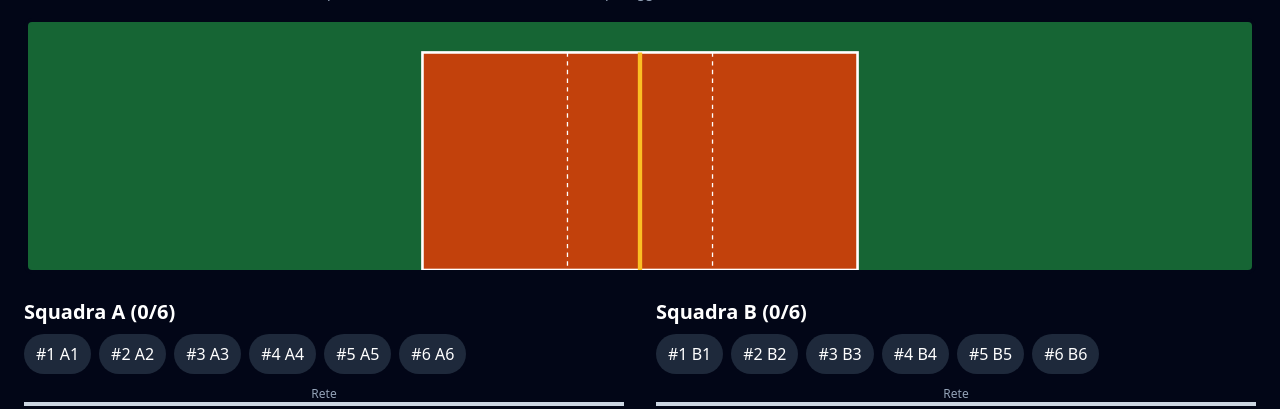
LineupPicker › la griglia riempie le zone 1..6 nellordine di tocco e toglie i giocatori dalla rosa
Click the button "#3 A3": point(208, 354) [174,334,241,374]
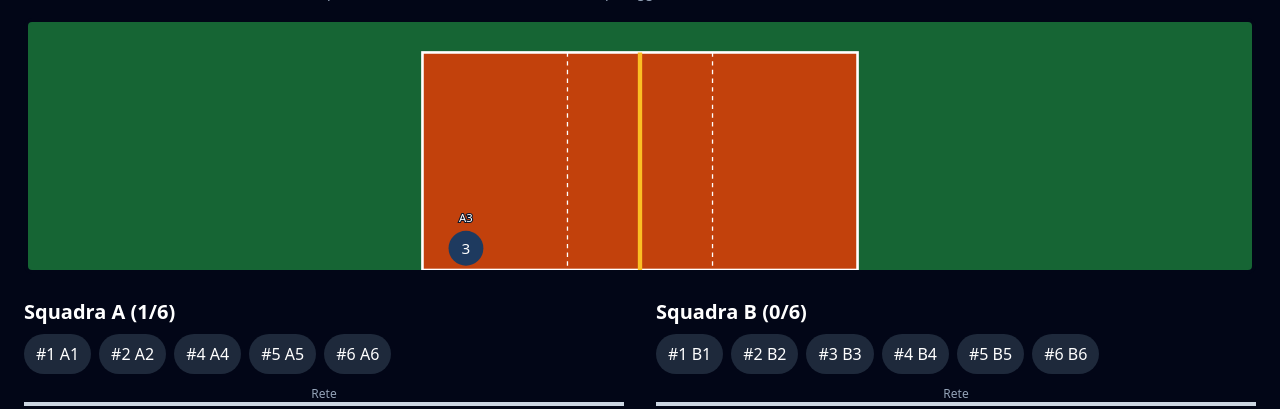
Click the button "#1 A1": point(58, 354) [24,334,91,374]
(page scrolled)
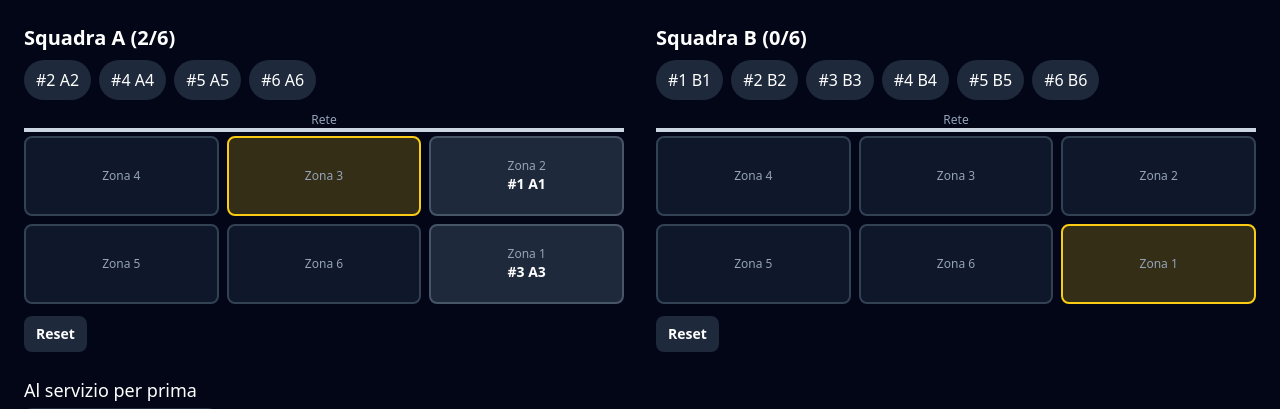
Expected: the button with test id "cella-a-1" shows "#3 A3", [429,224,624,304]
Expected: the button with test id "cella-a-2" shows "#1 A1", [429,136,624,216]
Expected: the text "#3 A3" is shown once, [508,262,546,282]
Note: Reset svuota la griglia e riporta i giocatori in rosa.
Click the button with test id "reset-a": point(55, 334) [24,316,87,352]
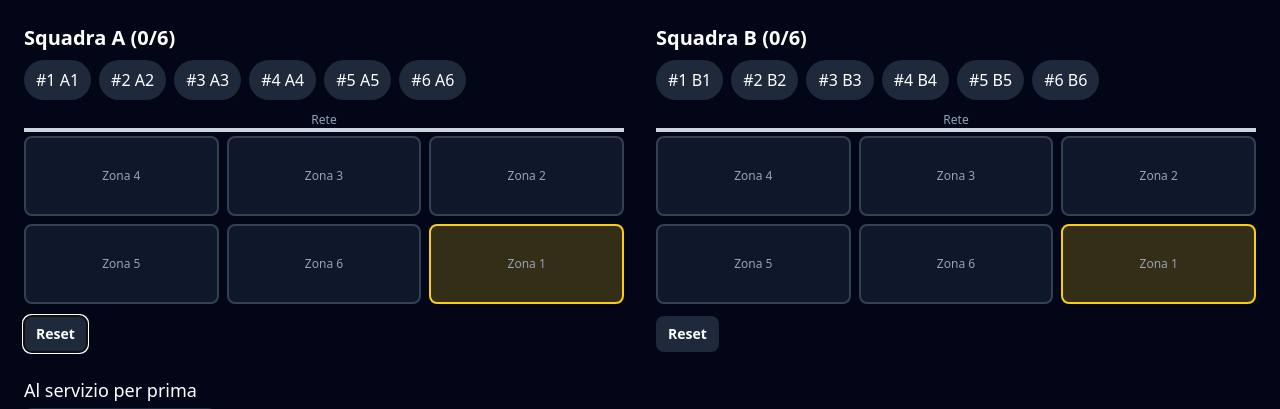
Expected: the button with test id "cella-a-1" does not show "#3 A3", [429,224,624,304]
Expected: the text "#3 A3" is shown once, [186,68,229,92]
